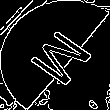M_SE: (17, 21, 93, 89)
